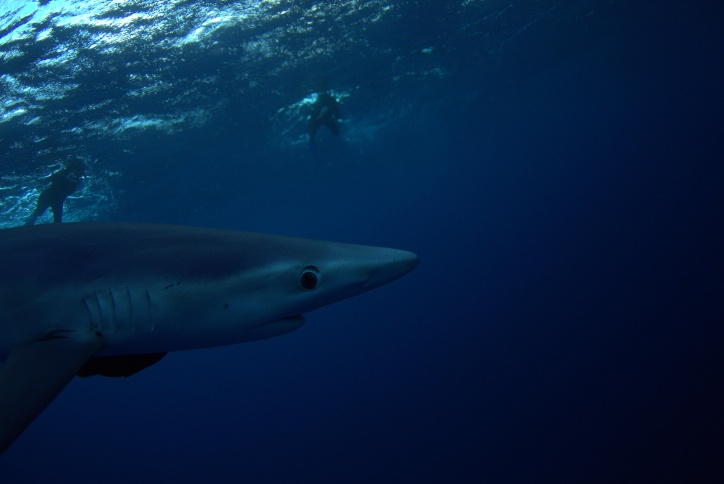Azul: (1, 201, 437, 442)
